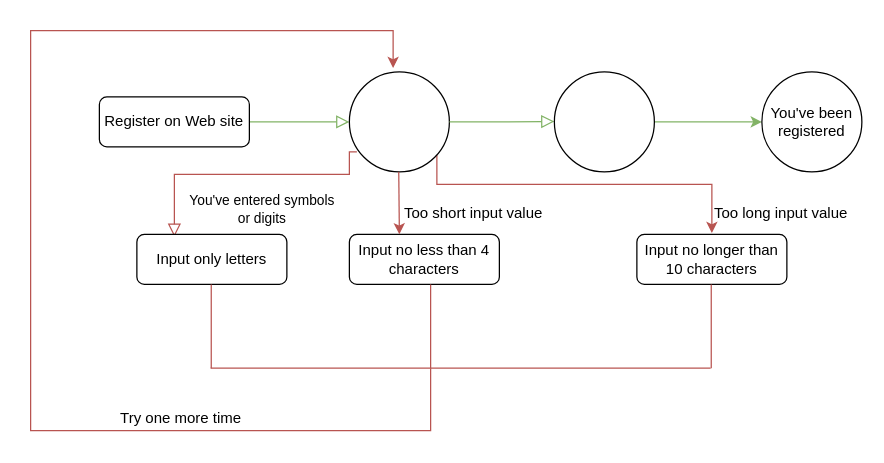
Some shapes in this 884 by 463 pixel diagram are drawn without their labels. Here are the shapes that lost their labels. From the top down, the box of each, then its label:
(348, 71, 449, 172): Enter login
(553, 71, 654, 172): You've entered correct login
